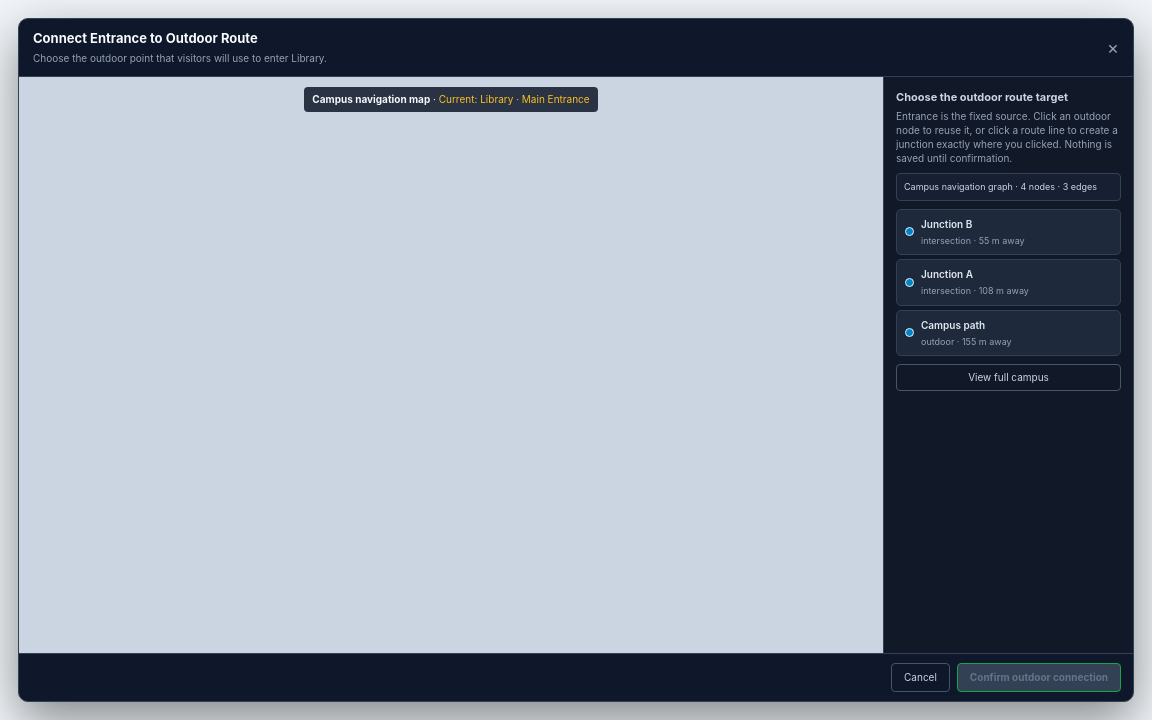
Test case: OutdoorRoutePicker › opens on the actual campus map and renders every outdoor graph segment, including intermediate junctions
Click the button "View full campus" at (1008, 378), box [896,364,1121,391]
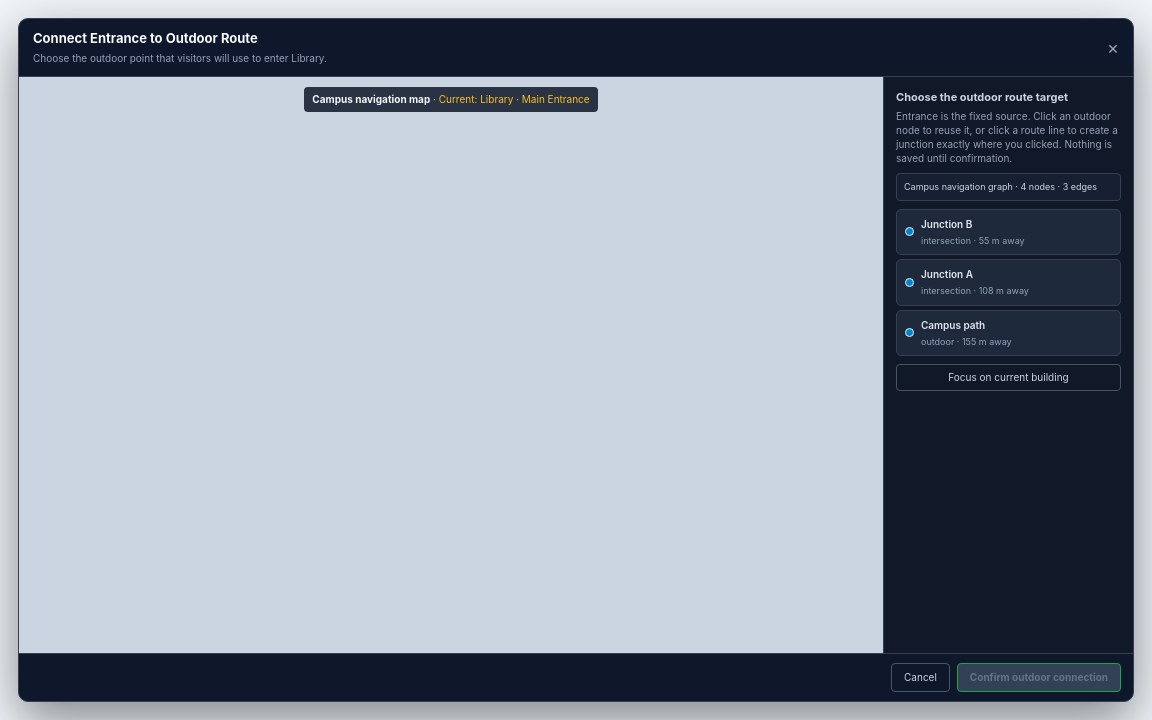
Expected: the button "Focus on current building" is shown, [896,364,1121,391]
